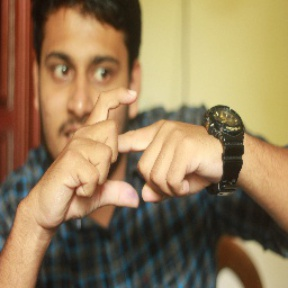E: (69, 90, 166, 214)
